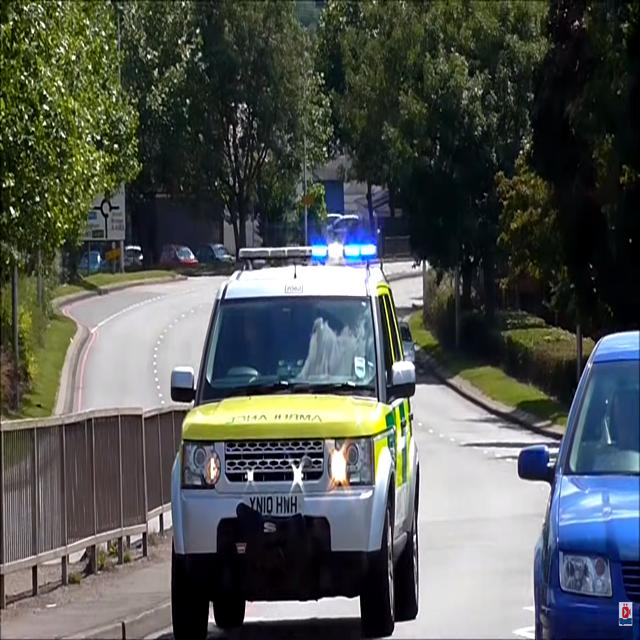emergency-vehicles: (156, 233, 438, 640)
